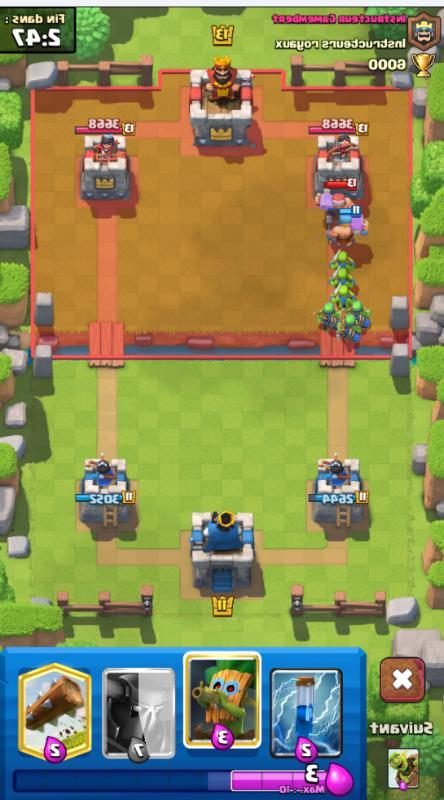enemy_spear_goblins: (348, 301, 375, 331), (337, 315, 363, 344), (314, 302, 340, 331)
player_goblins: (326, 282, 361, 313), (324, 246, 360, 276), (326, 264, 361, 294)
player_lumberjack: (322, 206, 370, 242)
